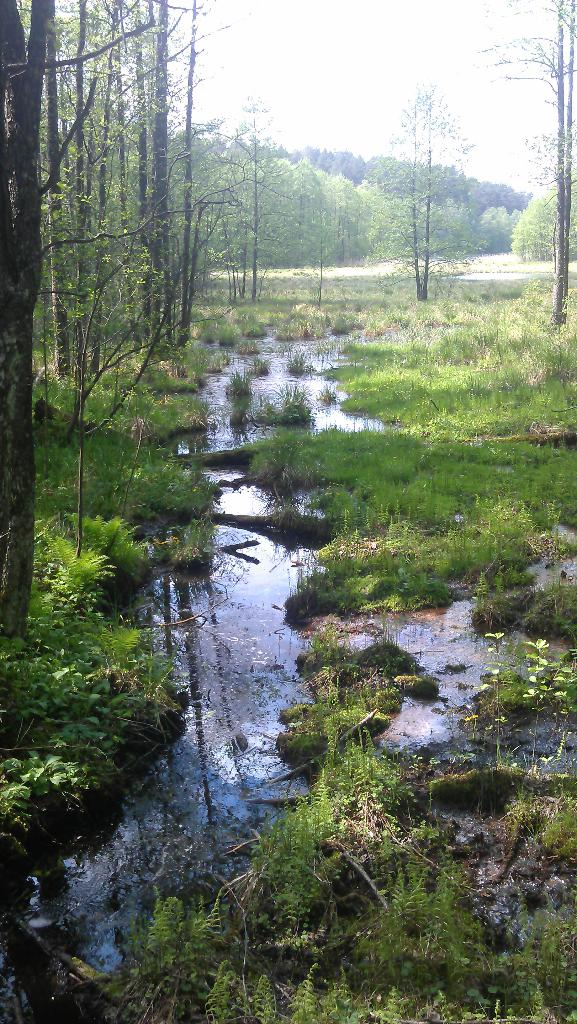Tree: (0, 0, 577, 659)
